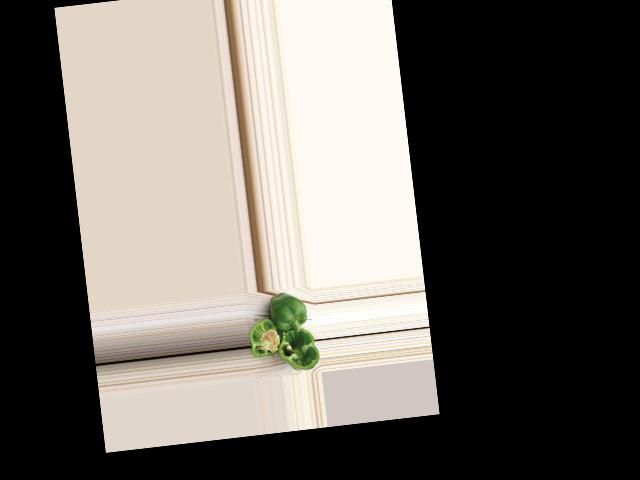bell_pepper: (247, 314, 285, 365)
